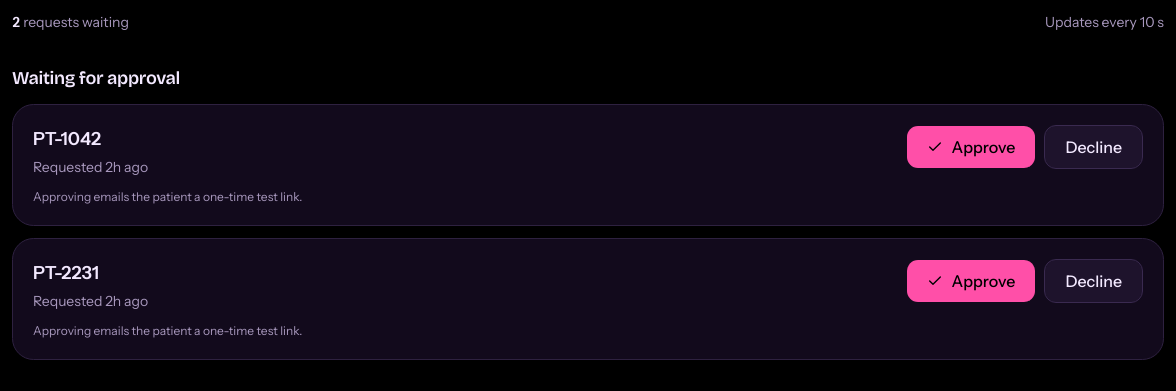
Scenario: RequestsInbox › approve → a failed email is reported on the handled card
The image size is (1176, 391).
Click the button with aria-label "Approve refill request for PT-1042".
click(972, 147)  # box x1=906 y1=125 x2=1036 y2=169
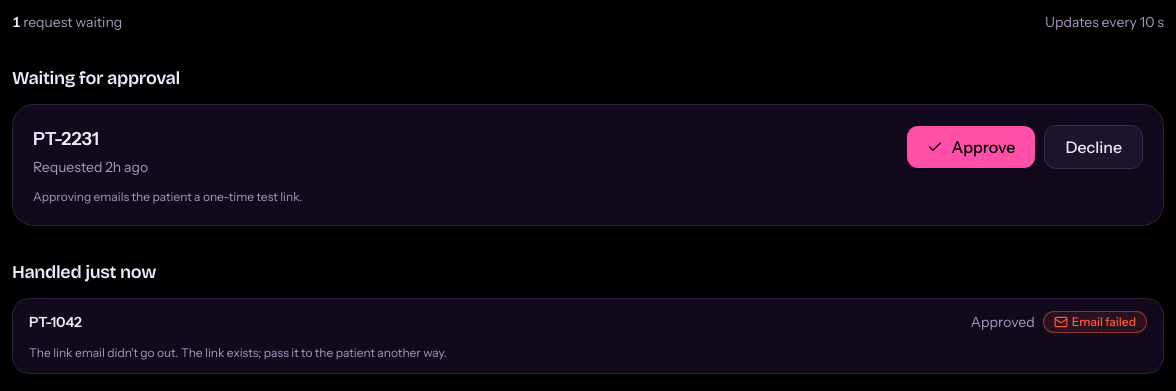
Expected: the element showing "Email failed" is shown, x1=1043 y1=311 x2=1147 y2=333
Expected: the text "pass it to the patient another way" is shown, x1=29 y1=345 x2=447 y2=360
